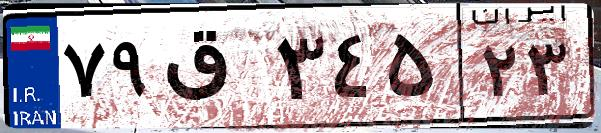2: (475, 38, 525, 113)
3: (270, 28, 330, 110), (525, 38, 570, 115)
4: (330, 28, 385, 110)
5: (385, 28, 445, 110)
7: (57, 26, 110, 100)
9: (110, 28, 158, 98)
ق: (158, 20, 270, 120)
